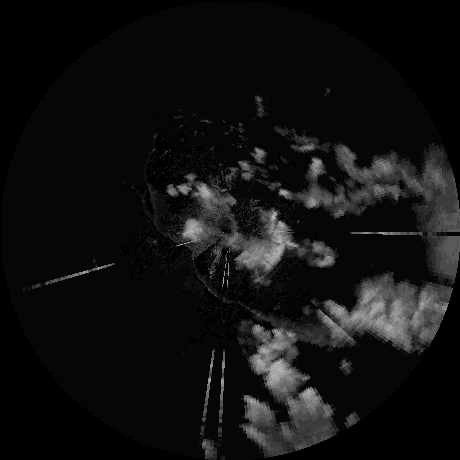frontgust: (190, 251, 273, 322), (147, 184, 192, 247)
